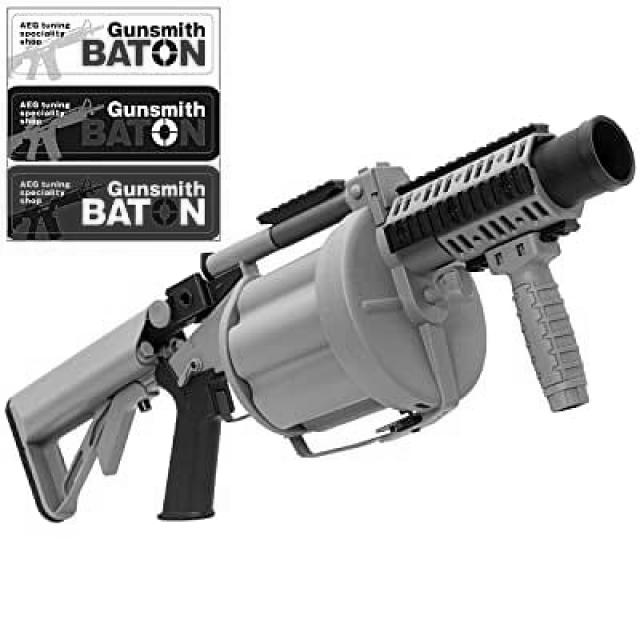Lancher: (0, 94, 634, 640)
